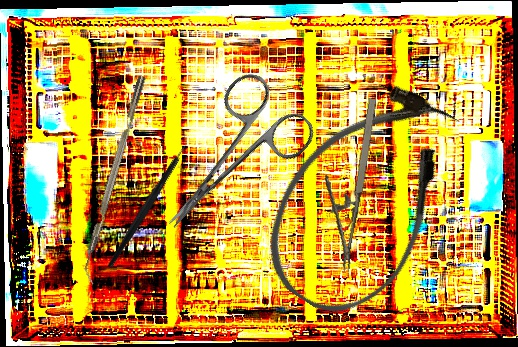Cannula: (239, 61, 488, 337)
Chopper: (71, 129, 224, 270), (76, 75, 156, 285)
Iris Scissors: (133, 65, 321, 257)
Needle Holder: (307, 92, 383, 273)
